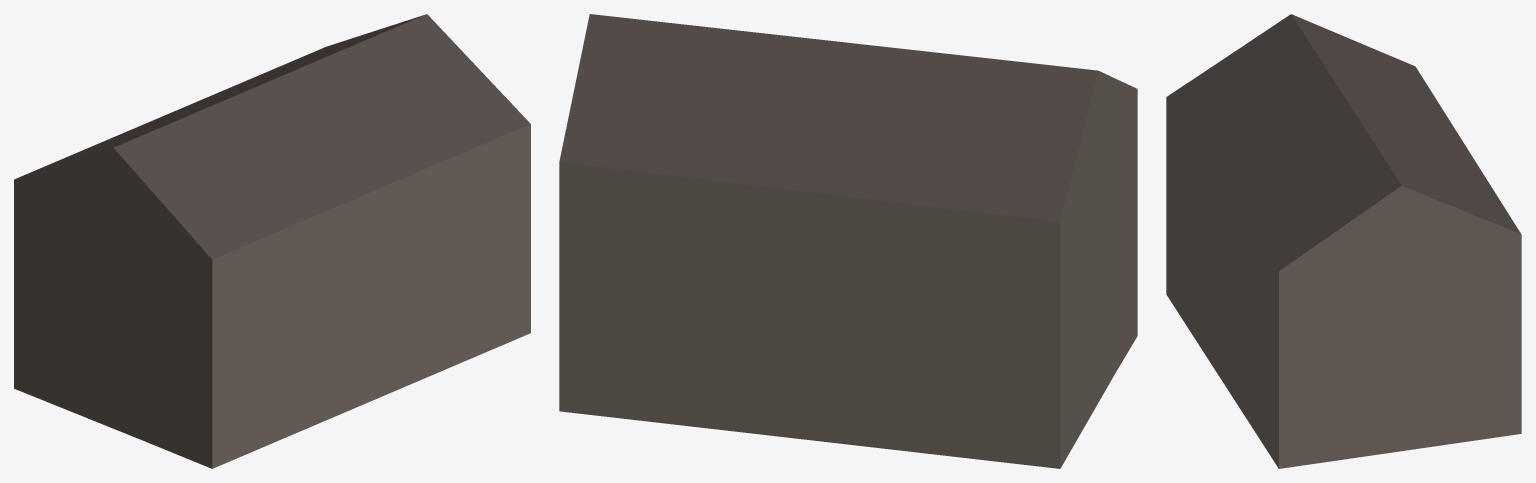
3 renders of one model, left to right at view 1: azimuth 30°, elevation 25°; view 2: azimuth 150°, elevation 25°; view 3: azimuth 270°, elevation 25°, orthographic. The views are drawn at different scales.
Parts seen in each view (by area): view 1: HP-w1198847860; view 2: HP-w1198847860; view 3: HP-w1198847860.
Part boxes in pixels (x1=…): HP-w1198847860: x1=14, y1=14, x2=530, y2=468; HP-w1198847860: x1=559, y1=14, x2=1137, y2=468; HP-w1198847860: x1=1166, y1=14, x2=1521, y2=468.
Bounding box in the file's own units: 13.34 × 8.06 × 9.77.
